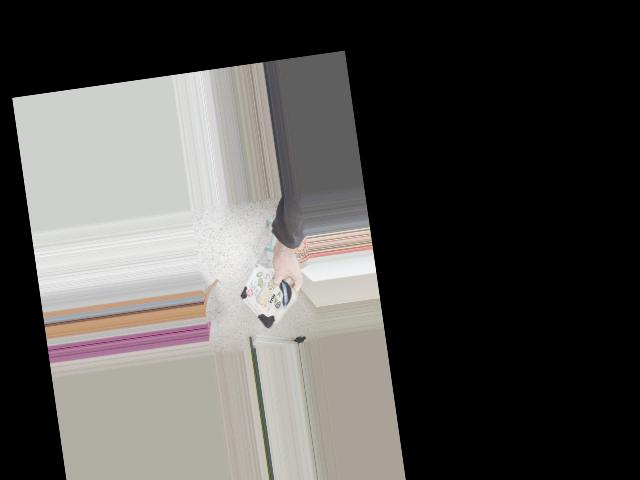cheese: (231, 267, 312, 330)
